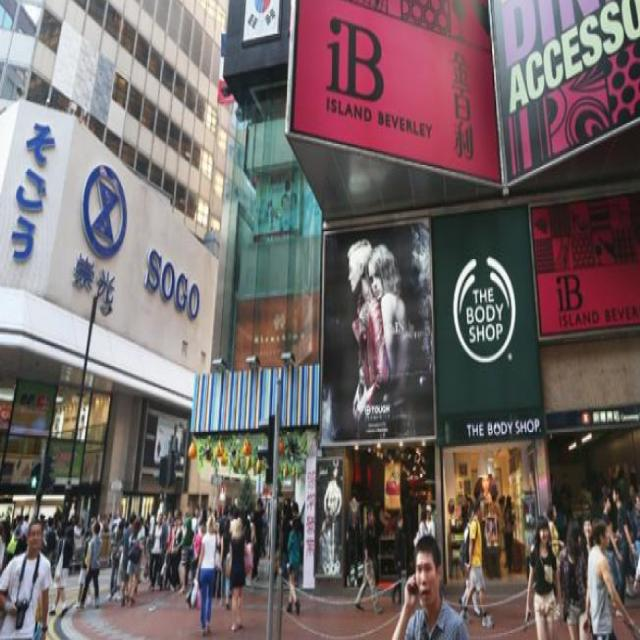body: (1, 496, 362, 613), (340, 236, 415, 434), (388, 530, 471, 638), (580, 516, 634, 639), (0, 518, 53, 640), (597, 458, 640, 605), (523, 511, 568, 639), (555, 518, 592, 640), (458, 494, 489, 633), (607, 482, 635, 618), (352, 505, 385, 616), (194, 512, 217, 639), (73, 519, 104, 613), (452, 472, 502, 530), (460, 500, 484, 620), (228, 515, 249, 634), (280, 497, 302, 594), (48, 525, 70, 619), (284, 520, 304, 619), (125, 514, 144, 610), (186, 520, 206, 610), (156, 416, 189, 470), (389, 512, 407, 610), (546, 502, 562, 606), (148, 510, 167, 593), (120, 509, 135, 612), (251, 497, 266, 583), (600, 491, 622, 547), (108, 514, 122, 598), (503, 494, 516, 577), (489, 488, 502, 570), (413, 502, 436, 546), (222, 518, 232, 609), (580, 517, 596, 550), (422, 488, 438, 517), (498, 494, 506, 550)
